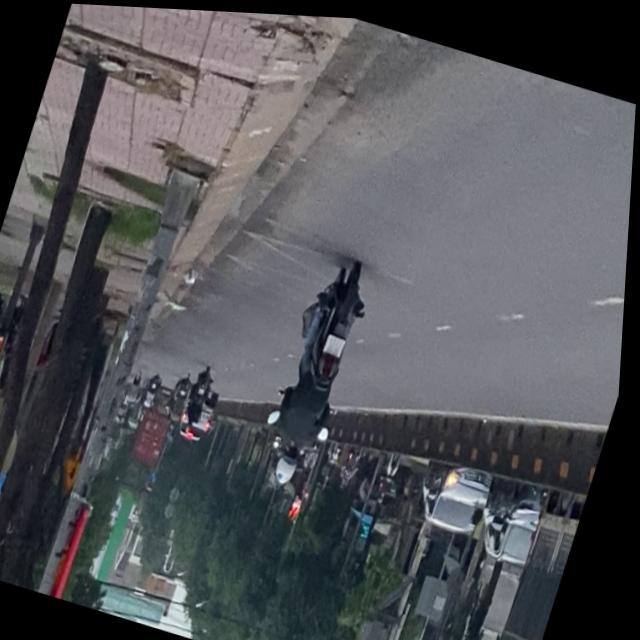helmet: (276, 443, 306, 483)
licenseplate: (257, 246, 383, 492)
nohelmet: (326, 330, 349, 354)
